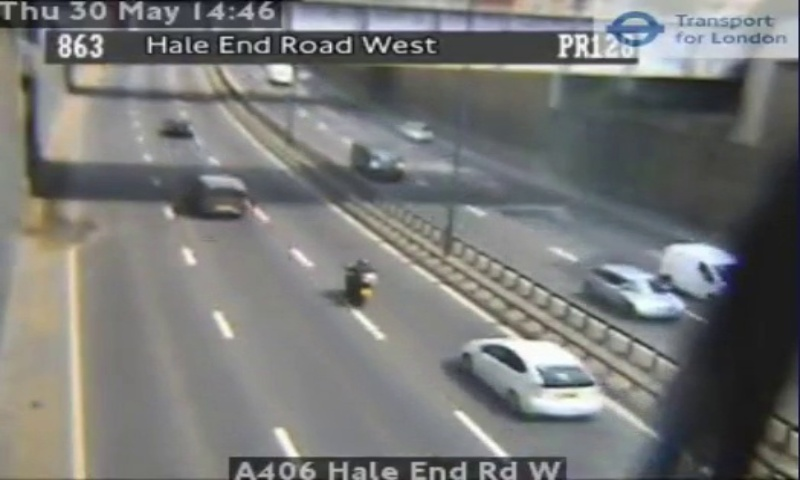car: (462, 337, 601, 417)
motorcycle: (346, 257, 380, 306)
van: (193, 174, 248, 217)
